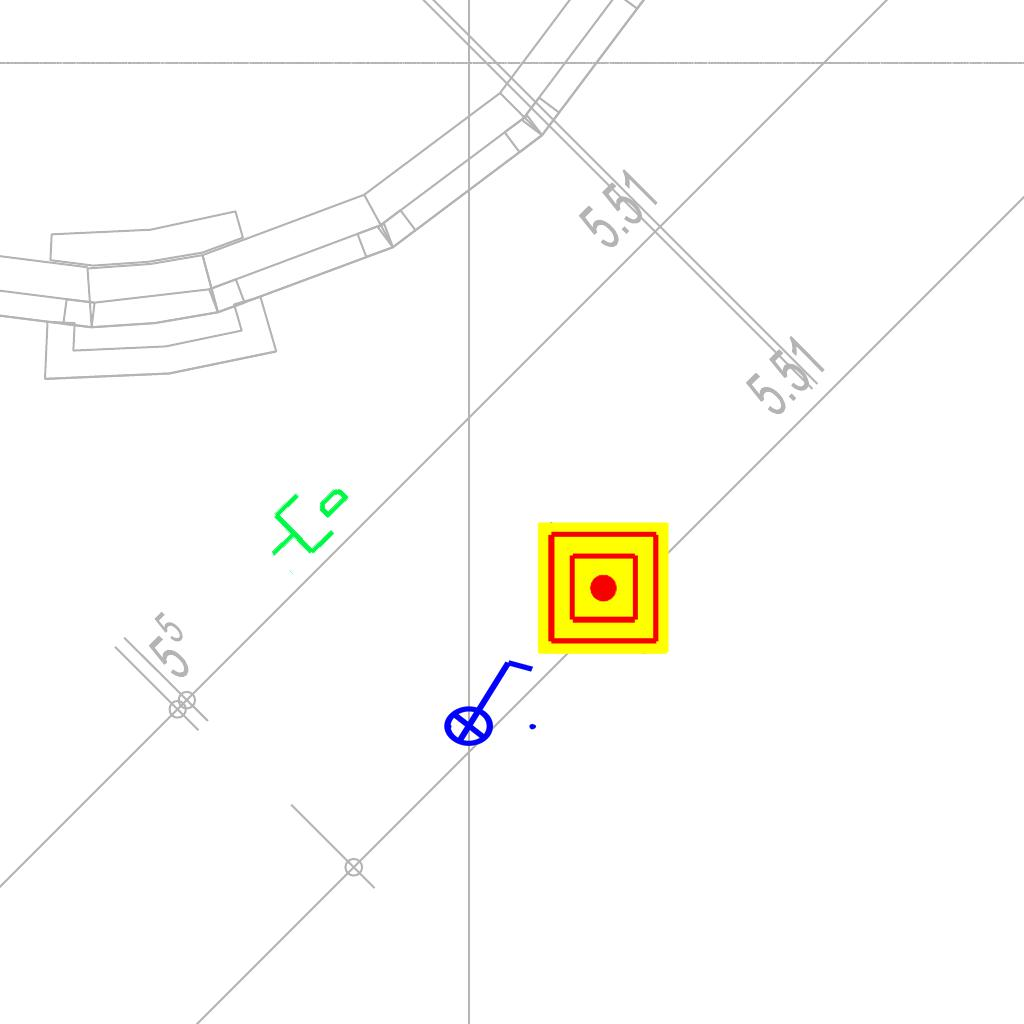Ausschalter_beleuchtet: (430, 652, 542, 748)
Datenanschluss_einfach: (245, 460, 366, 580)
NAM-Nichtautomatischer_Melder: (537, 522, 669, 654)
